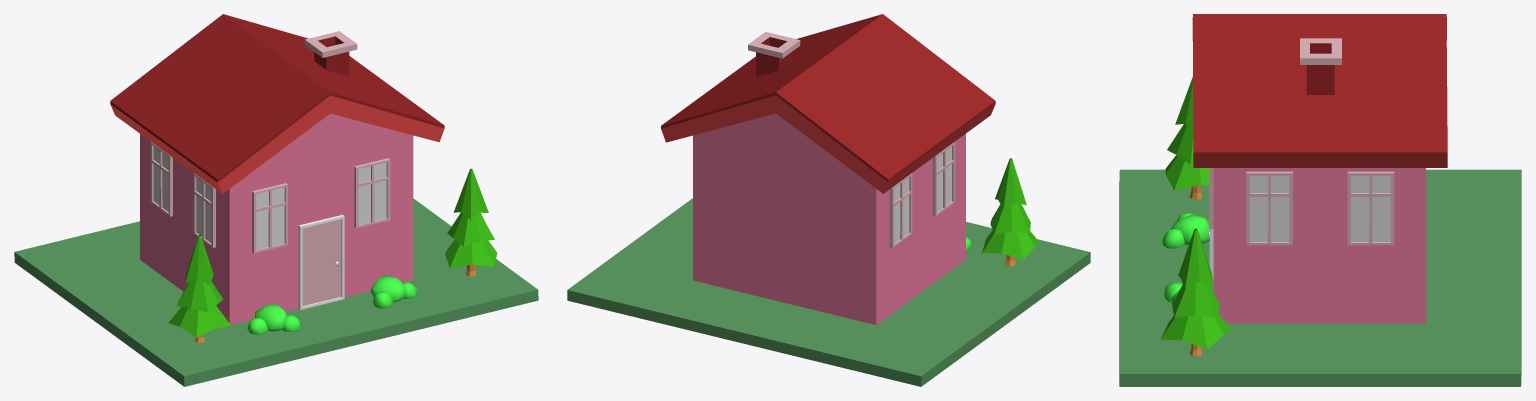
File: house-5.fbx
3 renders of one model, left to right at view 1: azimuth 30°, elevation 25°; view 2: azimuth 150°, elevation 25°; view 3: azimuth 270°, elevation 25°, orthographic. The views are drawn at different scales.
Visible parts, largest first — view 1: Plane, Cube, Cube.001, Cube.005, christmas tree, christmas tree.001, big window 1.001, big window 1, Cube.002, big window 1.004, big window 1.005, Icosphere.005 (+1 smaller); view 2: Cube, Plane, Cube.001, christmas tree.001, Cube.002, big window 1.004, big window 1.005; view 3: Plane, Cube.001, Cube, christmas tree, big window 1.003, big window 1.002, christmas tree.001, Cube.002, Icosphere, Icosphere.002.
Boxes of the visible parts, x1=… form: Plane: x1=14, y1=198, x2=538, y2=386; Cube: x1=140, y1=113, x2=413, y2=324; Cube.001: x1=110, y1=14, x2=444, y2=193; Cube.005: x1=298, y1=214, x2=344, y2=309; christmas tree: x1=445, y1=168, x2=497, y2=276; christmas tree.001: x1=168, y1=235, x2=230, y2=342; big window 1.001: x1=354, y1=158, x2=390, y2=228; big window 1: x1=252, y1=183, x2=287, y2=253; Cube.002: x1=304, y1=31, x2=357, y2=76; big window 1.004: x1=150, y1=141, x2=172, y2=216; big window 1.005: x1=193, y1=173, x2=215, y2=247; Icosphere.005: x1=370, y1=275, x2=406, y2=301; Cube: x1=693, y1=113, x2=965, y2=324; Plane: x1=567, y1=198, x2=1090, y2=386; Cube.001: x1=661, y1=14, x2=995, y2=193; christmas tree.001: x1=982, y1=158, x2=1039, y2=266; Cube.002: x1=748, y1=31, x2=800, y2=76; big window 1.004: x1=889, y1=173, x2=912, y2=248; big window 1.005: x1=932, y1=142, x2=955, y2=216; Plane: x1=1119, y1=169, x2=1521, y2=386; Cube.001: x1=1192, y1=14, x2=1447, y2=167; Cube: x1=1213, y1=168, x2=1425, y2=323; christmas tree: x1=1161, y1=228, x2=1231, y2=356; big window 1.003: x1=1347, y1=171, x2=1394, y2=245; big window 1.002: x1=1246, y1=171, x2=1292, y2=245; christmas tree.001: x1=1165, y1=77, x2=1208, y2=199; Cube.002: x1=1300, y1=38, x2=1341, y2=94; Icosphere: x1=1171, y1=214, x2=1209, y2=244; Icosphere.002: x1=1162, y1=228, x2=1184, y2=248.
Size of the model in its own units: 2949 by 1818 by 2448.
